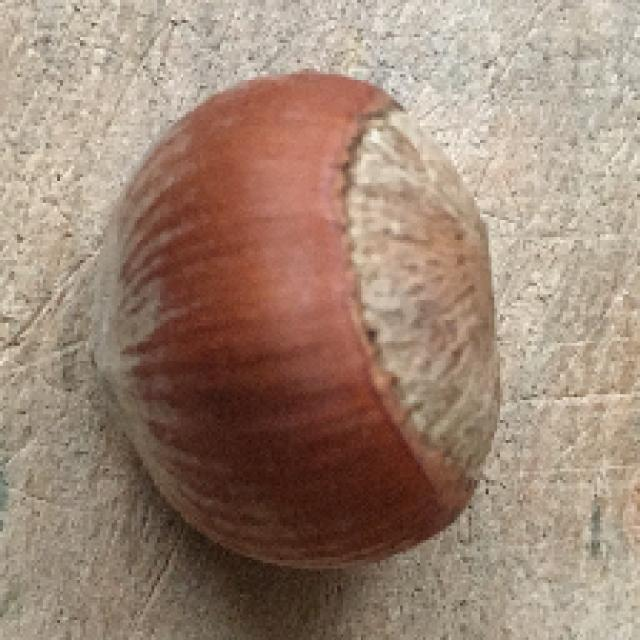qualityHazelnut: (88, 69, 502, 580)
